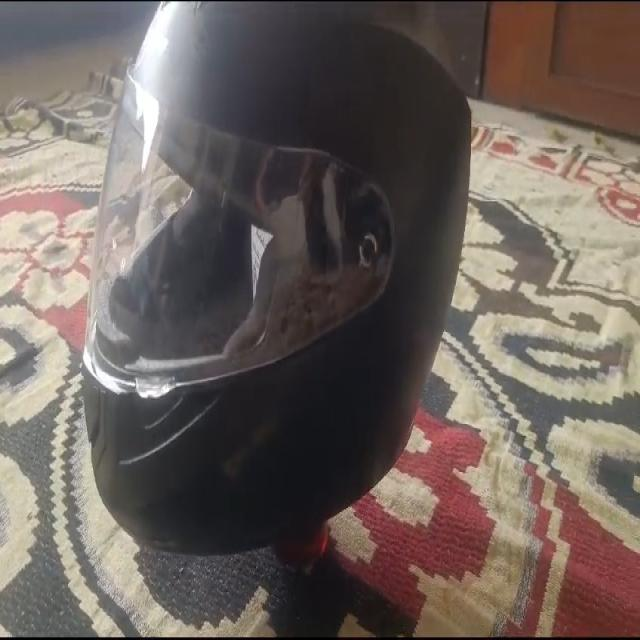Helmet: (83, 3, 471, 560)
